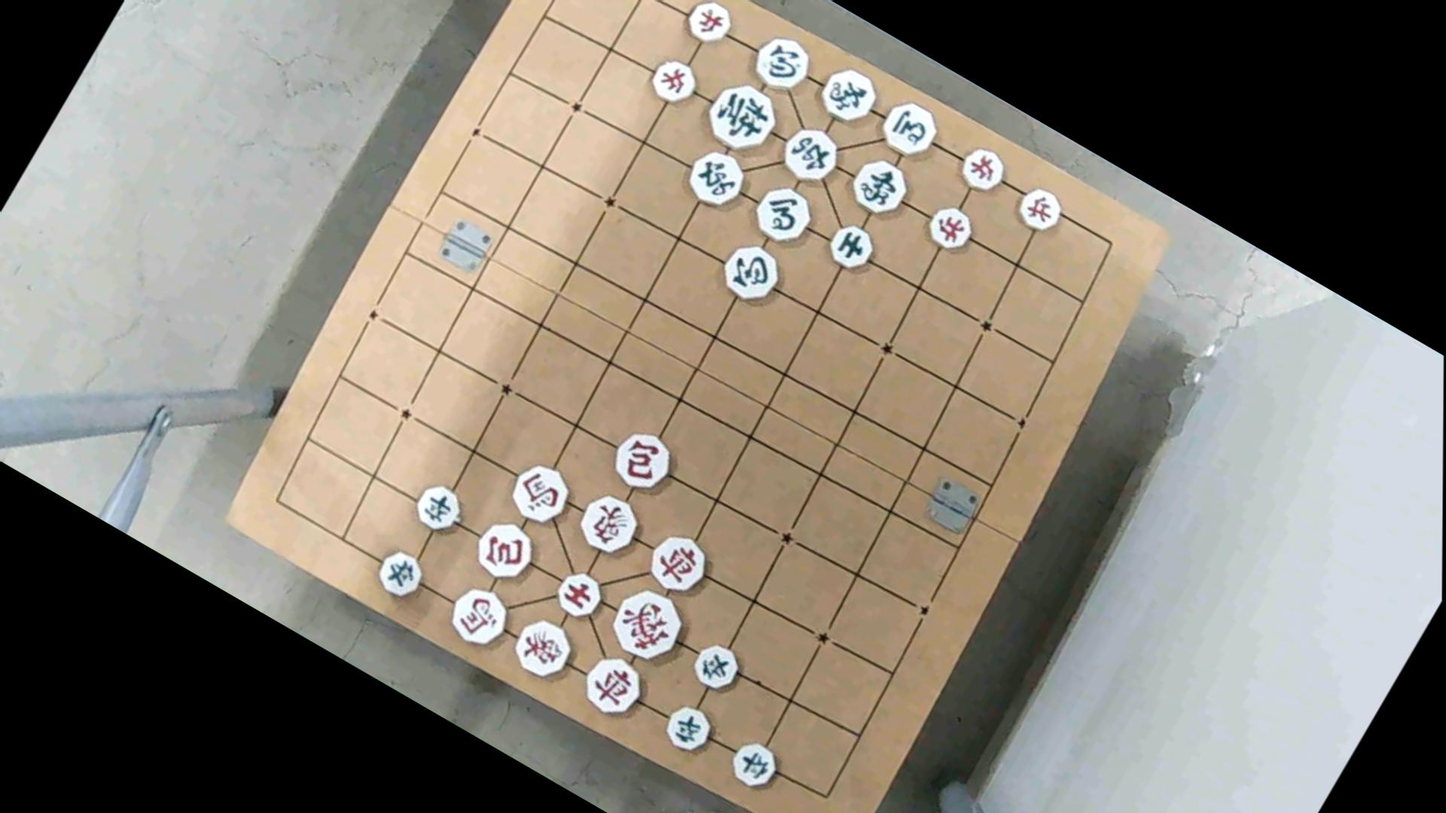cha_green: (678, 139, 753, 212), (774, 120, 848, 190)
cha_red: (572, 646, 654, 725), (639, 526, 713, 597)
jol_green: (368, 544, 432, 607), (657, 696, 719, 754), (407, 478, 468, 536), (685, 636, 745, 694), (725, 735, 783, 793)
jol_red: (640, 46, 708, 112), (1010, 181, 1068, 237), (920, 200, 977, 254), (953, 141, 1010, 195), (679, 0, 740, 50)
ma_green: (747, 177, 819, 247), (873, 93, 946, 162)
ma_red: (500, 455, 577, 527), (444, 583, 518, 656)
po_green: (744, 27, 817, 100), (713, 238, 788, 309)
po_red: (467, 514, 541, 586), (603, 425, 678, 496)
sa_green: (822, 217, 879, 273)
sa_red: (548, 564, 609, 622)
sang_green: (811, 59, 884, 131), (843, 153, 915, 221)
sang_red: (505, 613, 581, 687), (572, 492, 647, 562)
wang_green: (697, 71, 785, 157)
wang_red: (601, 583, 692, 669)
